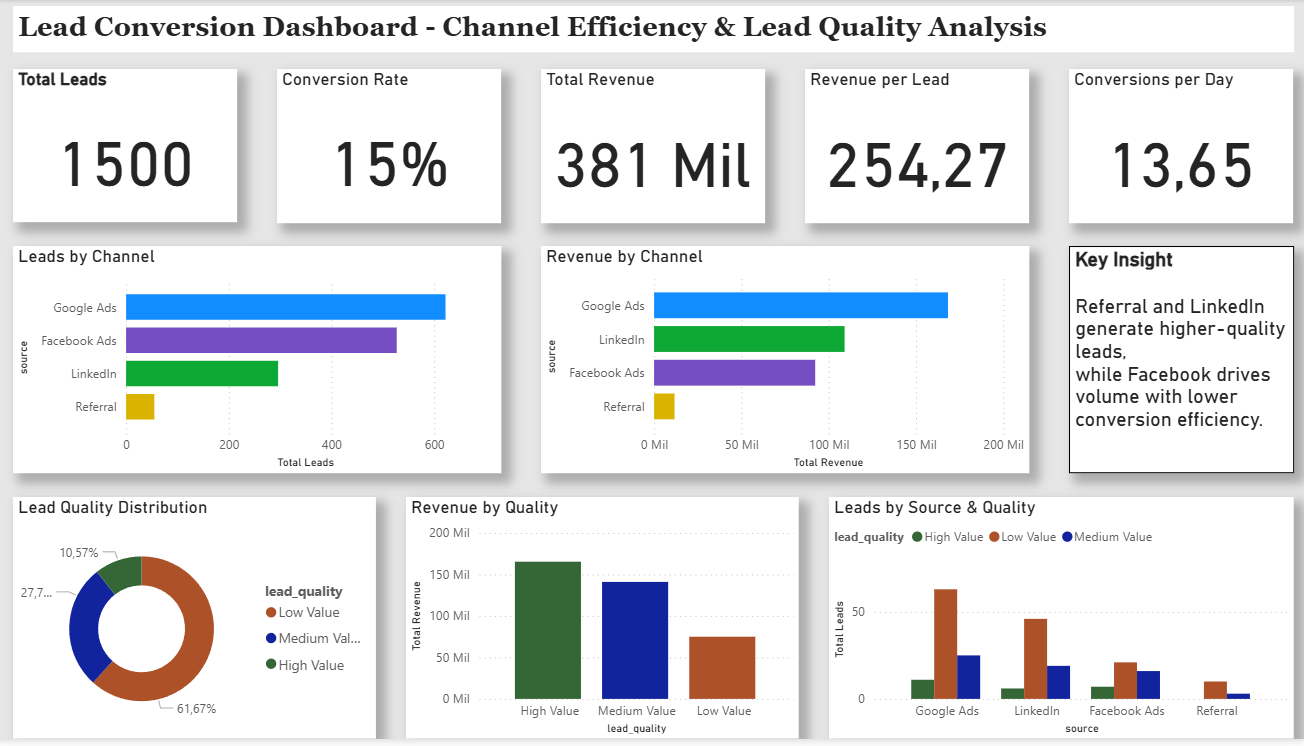

This screenshot's page, from the dashboard's own definition file:
{"tool":"powerbi","page":{"name":"Página 1","canvas":[1280,720],"ordinal":0},"visuals":[{"type":"card","title":" Total Leads","fields":{"Values":["public lead_conversion_dataset.Total Leads"]},"box":[22.4,68.1,217.9,148.8],"z":0},{"type":"textbox","box":[22.4,6.8,1246,44.7],"z":1000},{"type":"card","title":"Conversion Rate","fields":{"Values":["public lead_conversion_dataset.Conversion Rate"]},"box":[279.1,68.1,217.9,149.8],"z":2000},{"type":"card","title":"Total Revenue","fields":{"Values":["public lead_conversion_dataset.Total Revenue"]},"box":[535.9,68.1,217.9,149.8],"z":3000},{"type":"card","title":"Revenue per Lead","fields":{"Values":["public lead_conversion_dataset.Revenue per Lead"]},"box":[792.7,68.1,217.9,149.8],"z":4000},{"type":"card","title":"Conversions per Day","fields":{"Values":["public lead_conversion_dataset.Avg Conversion Days"]},"box":[1049.5,68.1,217.9,149.8],"z":5000},{"type":"barChart","title":"Leads by Channel","fields":{"Y":["public lead_conversion_dataset.Total Leads"],"Category":["public lead_conversion_dataset.source"]},"box":[22.4,240.2,474.7,220.8],"z":6000},{"type":"barChart","title":"Revenue by Channel","fields":{"Y":["public lead_conversion_dataset.Total Revenue"],"Category":["public lead_conversion_dataset.source"]},"box":[535.9,240.2,474.7,220.8],"z":7000},{"type":"donutChart","title":"Lead Quality Distribution","fields":{"Category":["public lead_conversion_dataset.lead_quality"],"Y":["public lead_conversion_dataset.Total Leads"]},"box":[22.4,484.4,353.1,235.4],"z":8000},{"type":"columnChart","title":"Revenue by Quality","fields":{"Category":["public lead_conversion_dataset.lead_quality"],"Y":["public lead_conversion_dataset.Total Revenue"]},"box":[404.6,484.4,382.2,235.4],"z":9000},{"type":"clusteredColumnChart","title":"Leads by Source & Quality","fields":{"Category":["public lead_conversion_dataset.source"],"Y":["public lead_conversion_dataset.Total Leads"],"Series":["public lead_conversion_dataset.lead_quality"]},"box":[816,484.4,452.3,235.4],"z":10000},{"type":"textbox","title":"Key Insight","box":[1049.5,240.2,218.8,220.8],"z":11000}]}

Visuals, with their boxes in screenshot pixels (x1, y1, x2, y2), scaled from the page's 1280x720 canvas onto the 1304x746 screenshot:
" Total Leads" card: {"x1": 23, "y1": 71, "x2": 245, "y2": 225}
textbox: {"x1": 23, "y1": 7, "x2": 1292, "y2": 53}
"Conversion Rate" card: {"x1": 284, "y1": 71, "x2": 506, "y2": 226}
"Total Revenue" card: {"x1": 546, "y1": 71, "x2": 768, "y2": 226}
"Revenue per Lead" card: {"x1": 808, "y1": 71, "x2": 1030, "y2": 226}
"Conversions per Day" card: {"x1": 1069, "y1": 71, "x2": 1291, "y2": 226}
"Leads by Channel" barChart: {"x1": 23, "y1": 249, "x2": 506, "y2": 478}
"Revenue by Channel" barChart: {"x1": 546, "y1": 249, "x2": 1030, "y2": 478}
"Lead Quality Distribution" donutChart: {"x1": 23, "y1": 502, "x2": 383, "y2": 745}
"Revenue by Quality" columnChart: {"x1": 412, "y1": 502, "x2": 802, "y2": 745}
"Leads by Source & Quality" clusteredColumnChart: {"x1": 831, "y1": 502, "x2": 1292, "y2": 745}
"Key Insight" textbox: {"x1": 1069, "y1": 249, "x2": 1292, "y2": 478}
